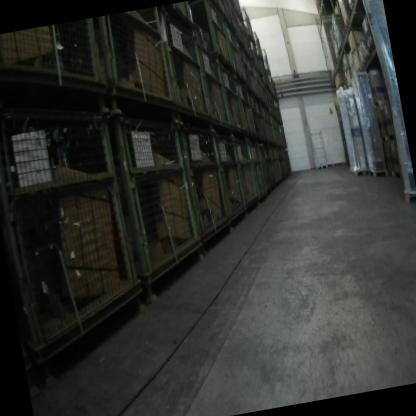pallet: (367, 164, 387, 183), (400, 185, 416, 207), (349, 166, 369, 177), (359, 56, 367, 71), (343, 17, 352, 28), (365, 52, 373, 62), (349, 0, 358, 8)
stillage: (0, 73, 157, 382), (106, 90, 209, 307), (95, 6, 181, 128), (0, 18, 108, 114), (176, 118, 235, 262), (158, 2, 214, 134), (194, 31, 232, 142), (211, 131, 248, 231), (194, 0, 237, 77), (231, 131, 262, 214), (218, 59, 249, 141), (223, 17, 249, 92), (246, 136, 269, 207), (235, 74, 258, 142), (239, 7, 256, 47), (223, 0, 245, 27), (208, 0, 229, 20)
